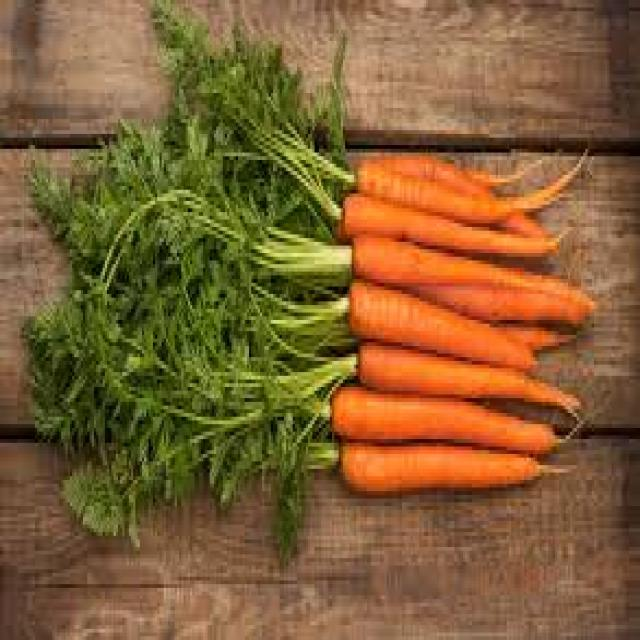Carrot: (326, 388, 564, 460), (337, 437, 552, 498)
